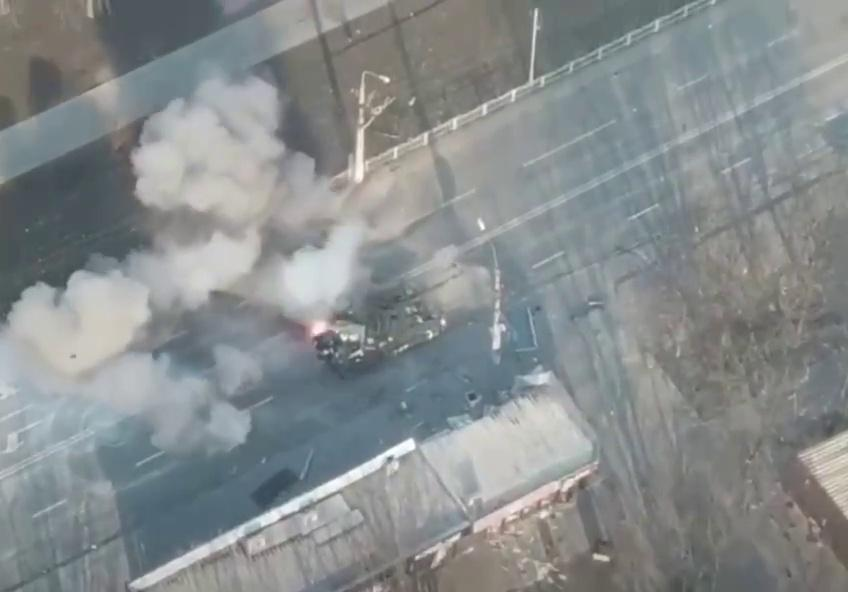tank: (310, 270, 465, 379)
